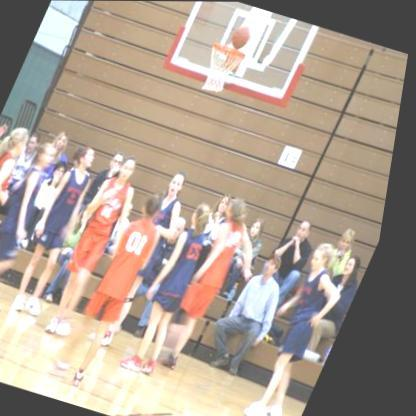basketball: (229, 21, 257, 51)
rim: (210, 42, 249, 59)
